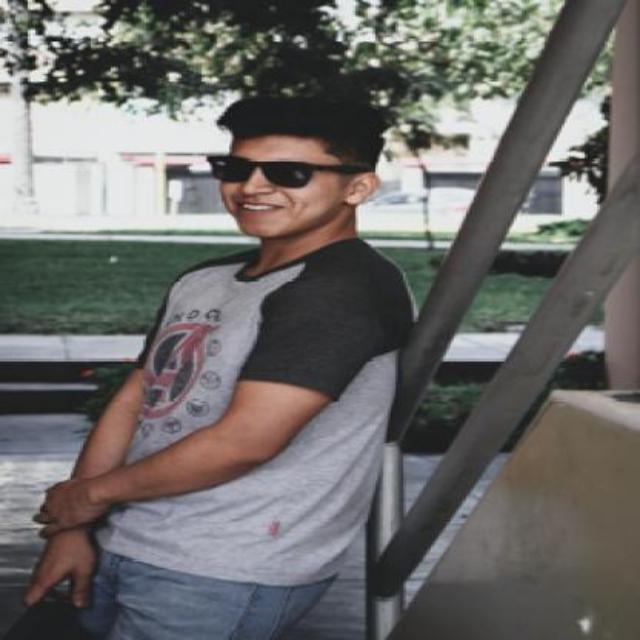sunglasses: (202, 154, 370, 190)
